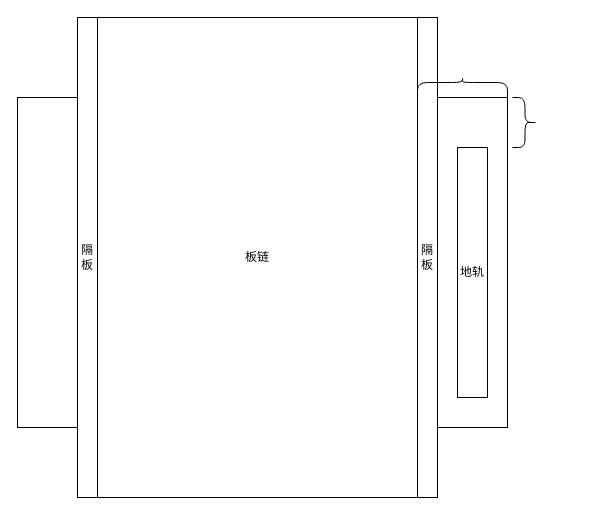
This 604x515 diagram has some shape labels left out. The shapes that lost their labels are listed below. From the top down, each one's centre as x and y in pixels, then its label:
At point 462,87: "1400mm(隔板200mm)".
At point 525,122: "1000mm".
